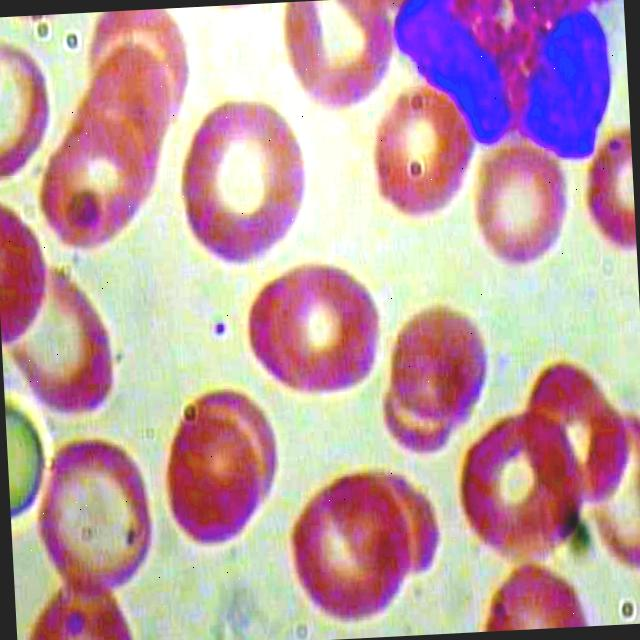RBC: (166, 78, 320, 270), (457, 406, 589, 571), (278, 471, 416, 628), (0, 251, 123, 426), (31, 429, 158, 598), (256, 260, 384, 395), (356, 87, 478, 225), (30, 118, 147, 258), (160, 408, 268, 550), (273, 0, 399, 117), (386, 304, 498, 426), (471, 142, 569, 274)
WBC: (380, 0, 632, 178)
